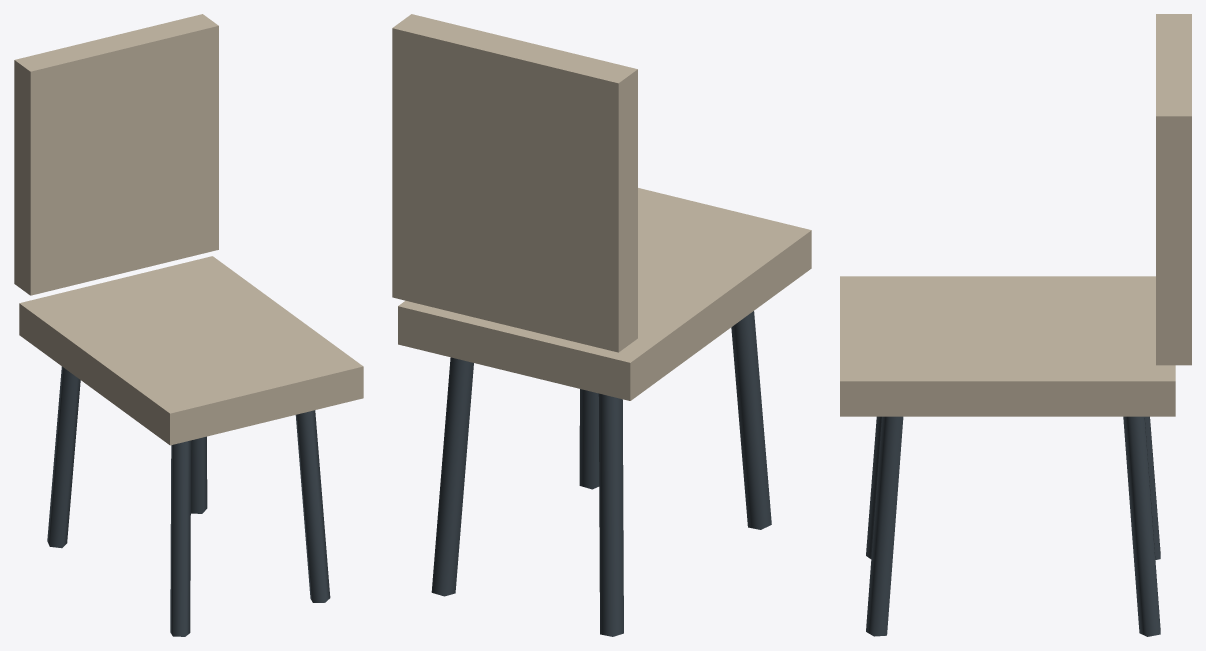
Rendered from chair-2.glb.
3 views of the same model, side by side, from view 1: azimuth 30°, elevation 25°; view 2: azimuth 150°, elevation 25°; view 3: azimuth 270°, elevation 25° (orthographic). The views are drawn at different scales.
Parts seen in each view (by area): view 1: chair:2:editor; view 2: chair:2:editor; view 3: chair:2:editor.
Boxes of the visible parts, x1,y1,x2,y2 form: chair:2:editor: (14,14,363,636); chair:2:editor: (392,14,811,636); chair:2:editor: (840,14,1191,636).
Size of the model in its own units: 0.3812 by 0.8984 by 0.54.
